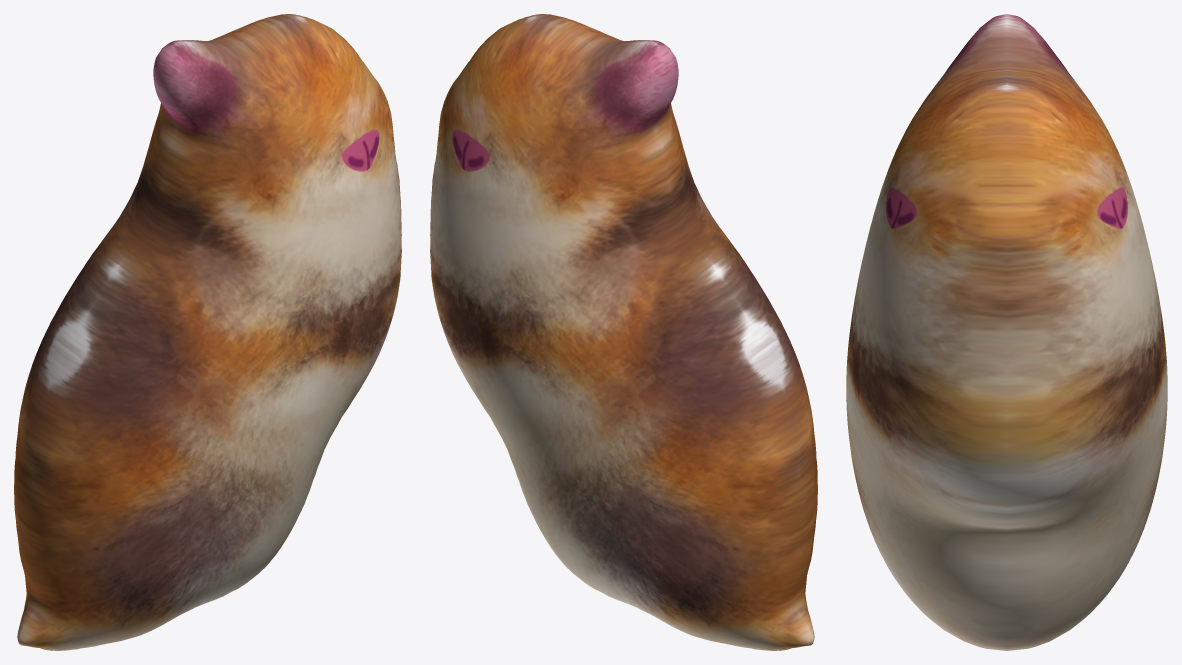
File: mm_project.glb
The picture shows the model from 3 angles, left to right: view 1: azimuth 30°, elevation 25°; view 2: azimuth 150°, elevation 25°; view 3: azimuth 270°, elevation 25°; orthographic projection. The views are drawn at different scales.
Bounding box in the file's own units: 4.66 × 6.97 × 3.15.
1 material, 1 textured.
